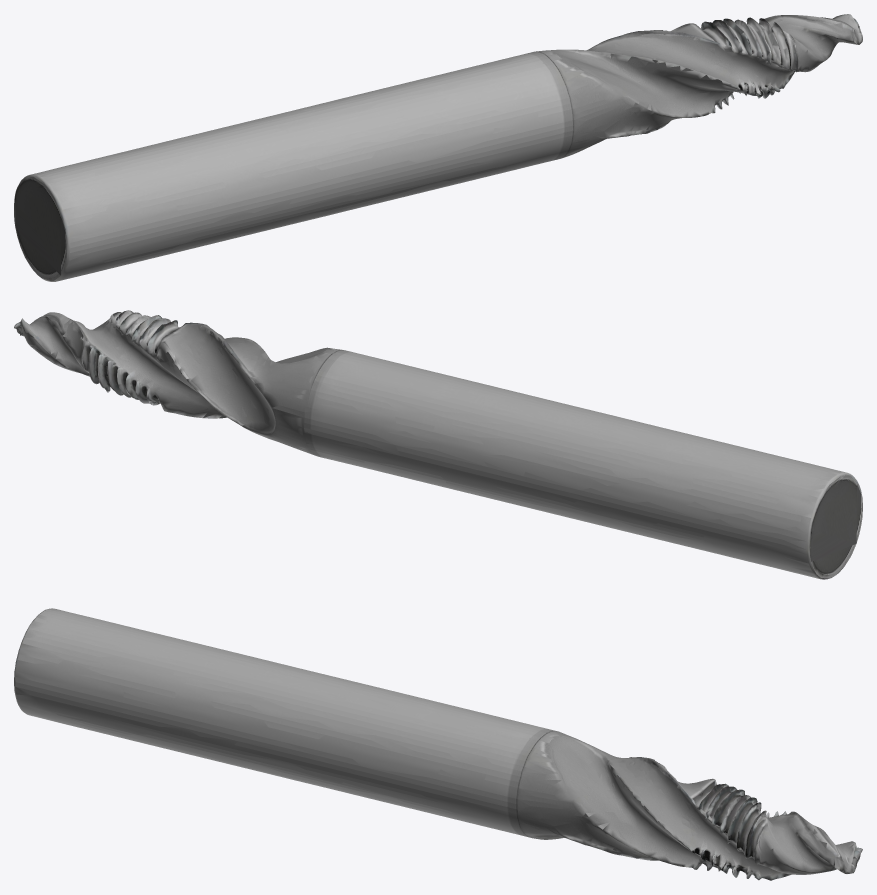
Rendered from tool_200.obj.
The picture shows the model from 3 angles, top to bottom: view 1: azimuth 30°, elevation 25°; view 2: azimuth 150°, elevation 25°; view 3: azimuth 330°, elevation 25°; orthographic projection.
Parts seen in each view (by area): view 1: tool_200_tripo_normalized; view 2: tool_200_tripo_normalized; view 3: tool_200_tripo_normalized.
Part boxes in pixels (<box>): tool_200_tripo_normalized: <box>14,14,862,281</box>; tool_200_tripo_normalized: <box>14,310,862,579</box>; tool_200_tripo_normalized: <box>14,608,862,880</box>.
Bounding box in the file's own units: 118 × 13.77 × 13.76.
1 material, 1 textured.
